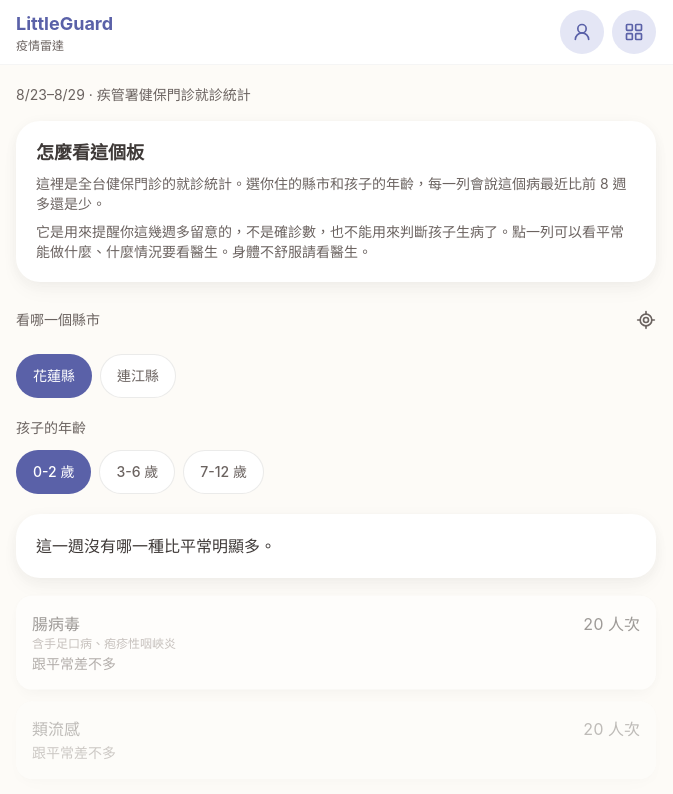
縣市與年齡層 › 切換年齡層會換掉狀態文案
The width and height of the screenshot is (673, 794).
Expected: the text "腸病毒" is shown, 32,613 -> 80,633
Step 1. Click the button "3-6 歲" → (137, 472), box 100,450 -> 175,494
(page scrolled)
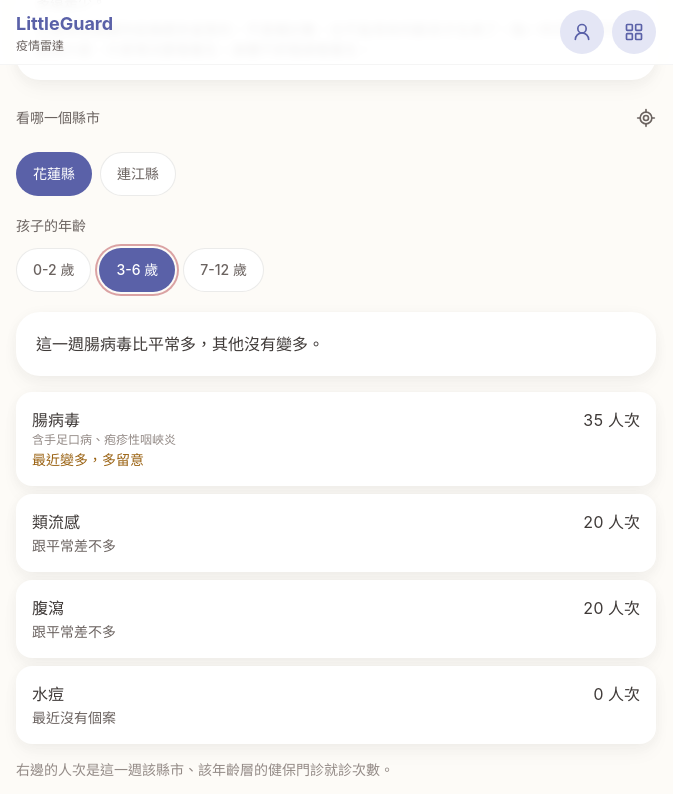
Now the text "最近變多，多留意" is shown, box 32,451 -> 144,468
Now the text "最近沒有個案" is shown, box 32,708 -> 116,728
